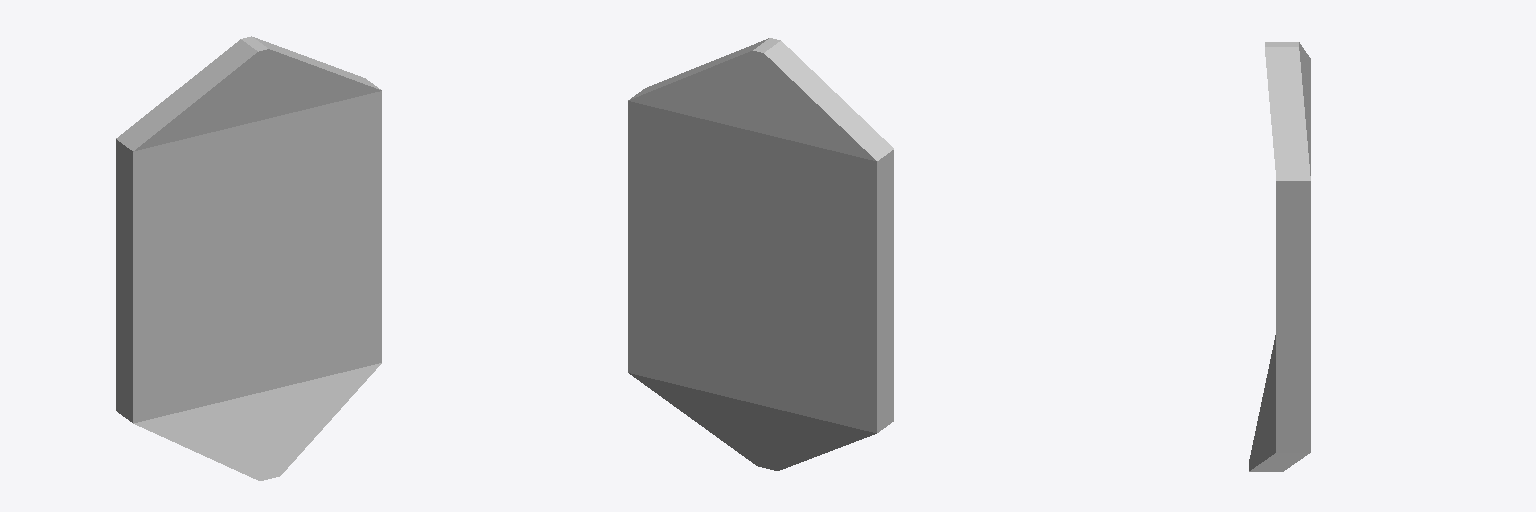
Rendered from shield.obj.
3 renders of one model, left to right at view 1: azimuth 30°, elevation 25°; view 2: azimuth 150°, elevation 25°; view 3: azimuth 270°, elevation 25°, orthographic.
Parts seen in each view (by area): view 1: Cube; view 2: Cube; view 3: Cube.
Part boxes in pixels (left/top/right/bottom): Cube: left=116, top=36, right=381, bottom=480; Cube: left=628, top=38, right=893, bottom=470; Cube: left=1249, top=42, right=1310, bottom=471.
Size of the model in its own units: 3.01 by 4.87 by 0.6466.